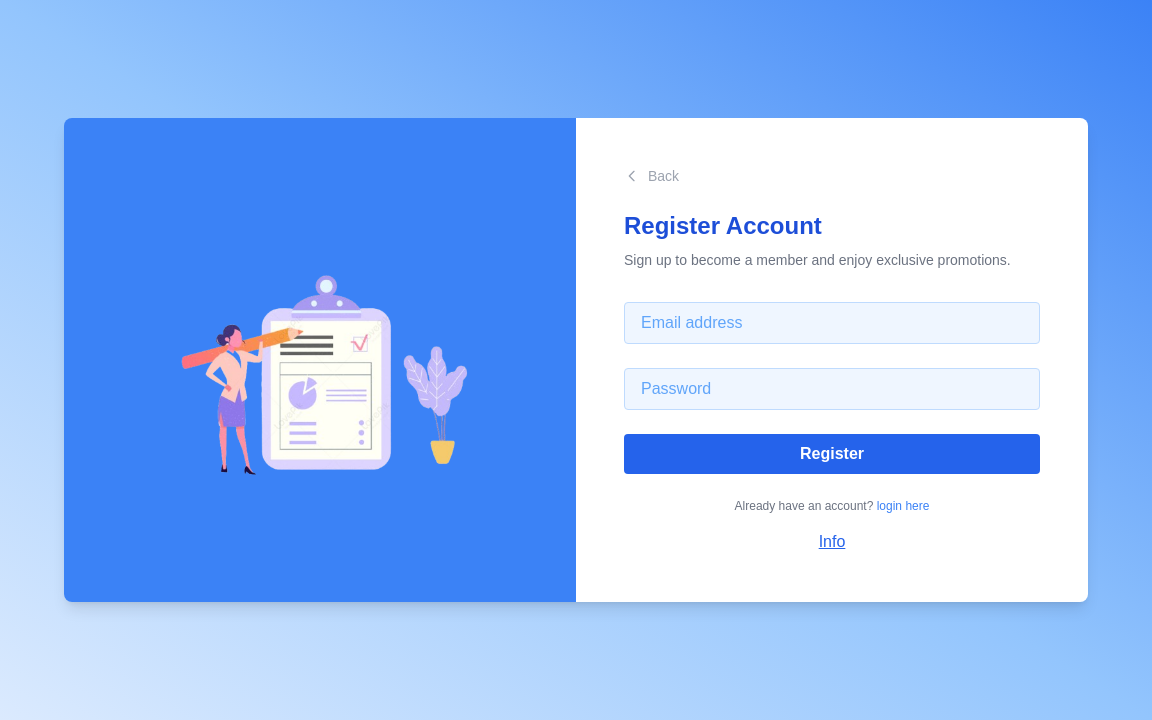
RegisterPage › menampilkan error jika email atau password kosong
Click the button "Register" at (832, 454), box [624, 434, 1040, 474]
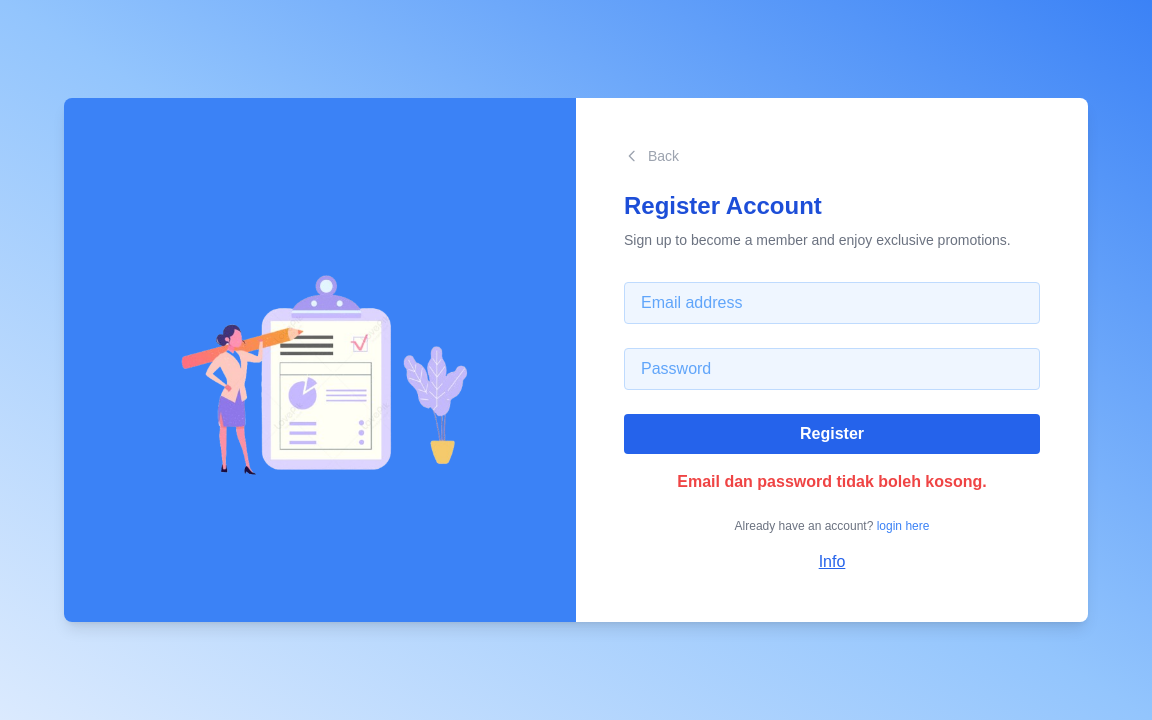
Check: the text with test id "error-message" shows "Email dan password tidak boleh kosong", box [677, 473, 987, 490]
